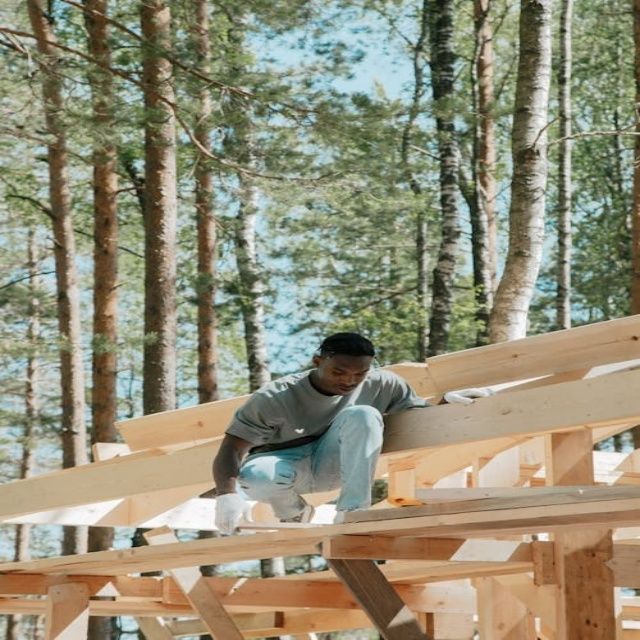Guantes: (214, 493, 253, 535), (442, 386, 495, 404)
Sin_gafas: (320, 356, 375, 378)
Sin_mascara: (325, 383, 358, 399)
